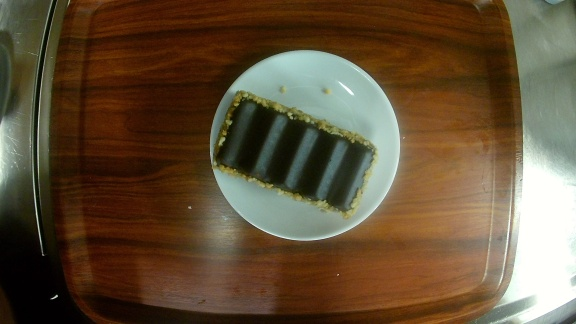muzlupasta: (212, 49, 402, 242)
